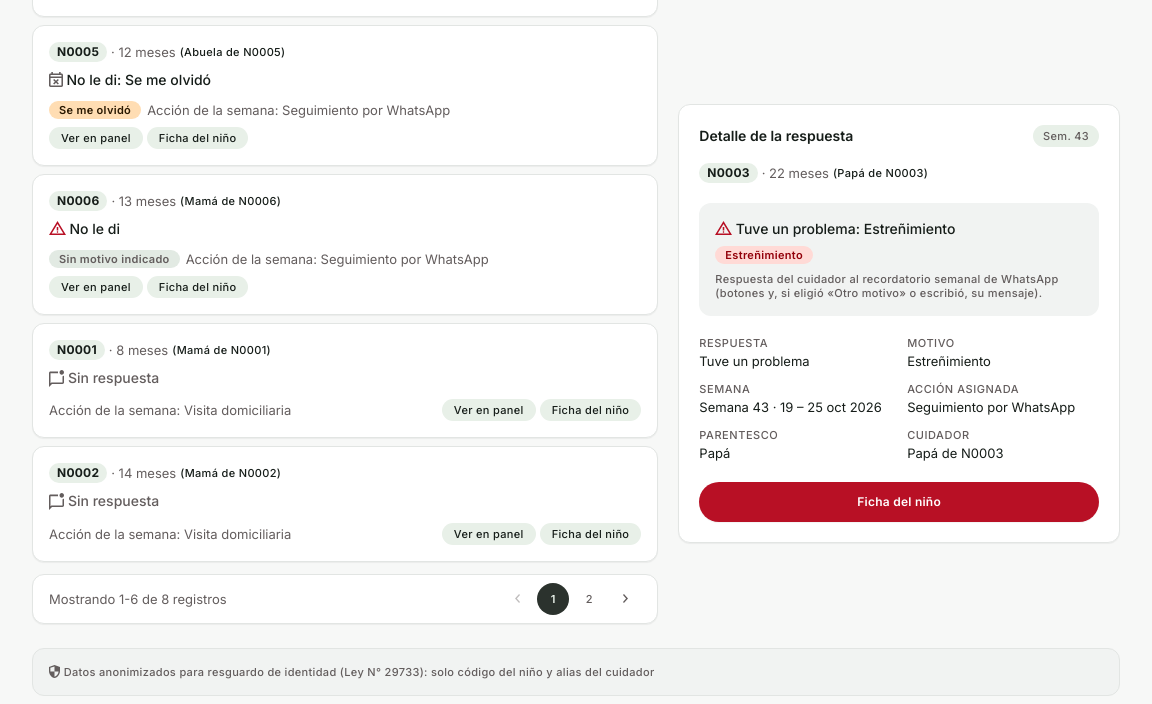
Test: Pantalla de Comunicación › pagina de 6 en 6
This screenshot has width=1152, height=704.
(page scrolled)
Expected: the text "Mostrando 1-6 de 8 registros" is shown, [49,590,227,608]
What coordinates should you click on to do the following:
click the button named "Página 2"
I would click on:
 (589, 598)
Its box is [573,582,605,614].
(page scrolled)
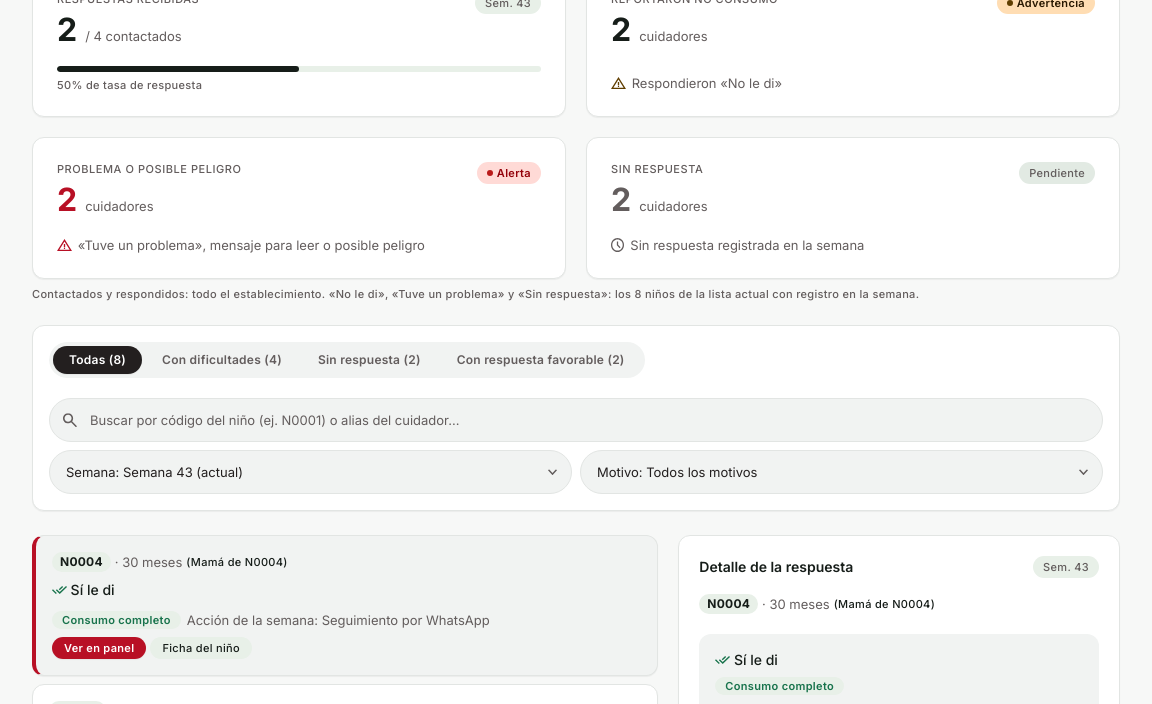
# Las demás razones del bot y la respuesta sin razón elegida
What coordinates should you click on to do the following:
click the tab "Con dificultades (4)"
I would click on:
 (222, 360)
Its box is [146,346,298,374].
(page scrolled)
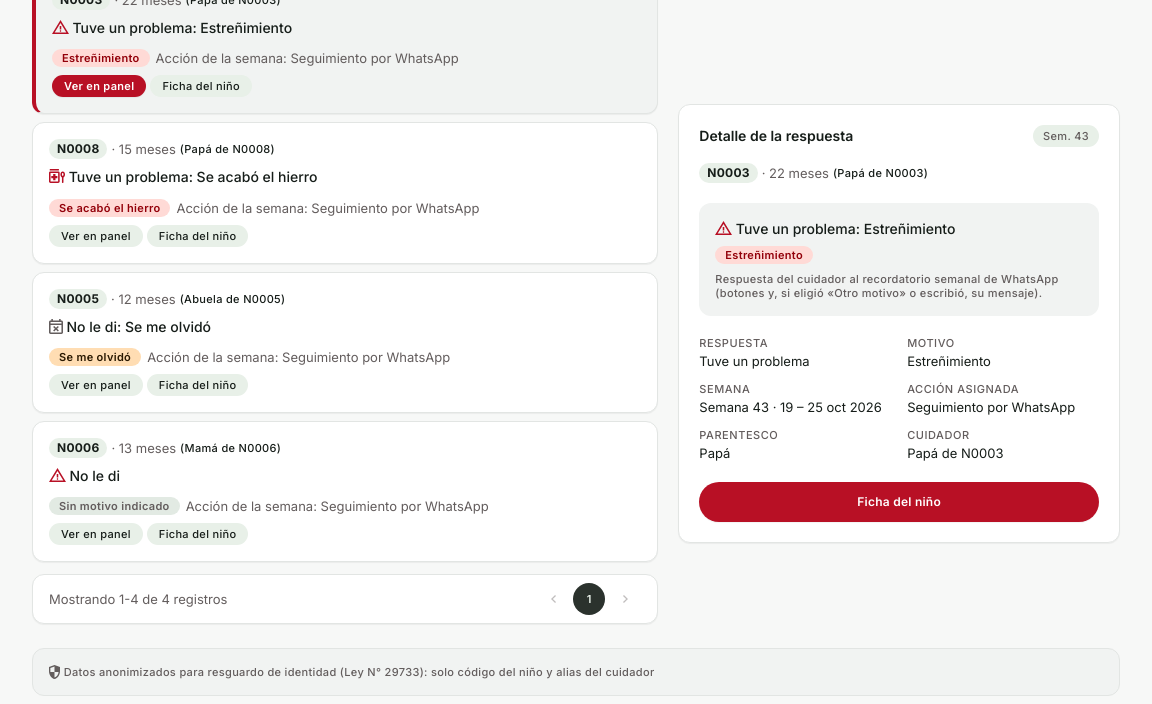
Expected: the text "No le di: Se me olvidó" is shown, [66,316,211,336]
Expected: the text "Tuve un problema: Se acabó el hierro" is shown, [69,167,318,187]
Expected: the text "Sin motivo indicado" is shown, [49,497,180,515]
